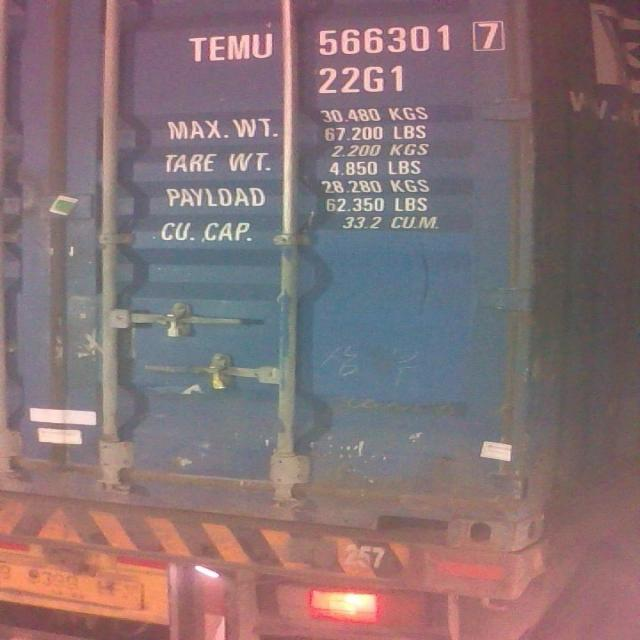seal: (160, 304, 198, 343), (204, 354, 233, 390)
